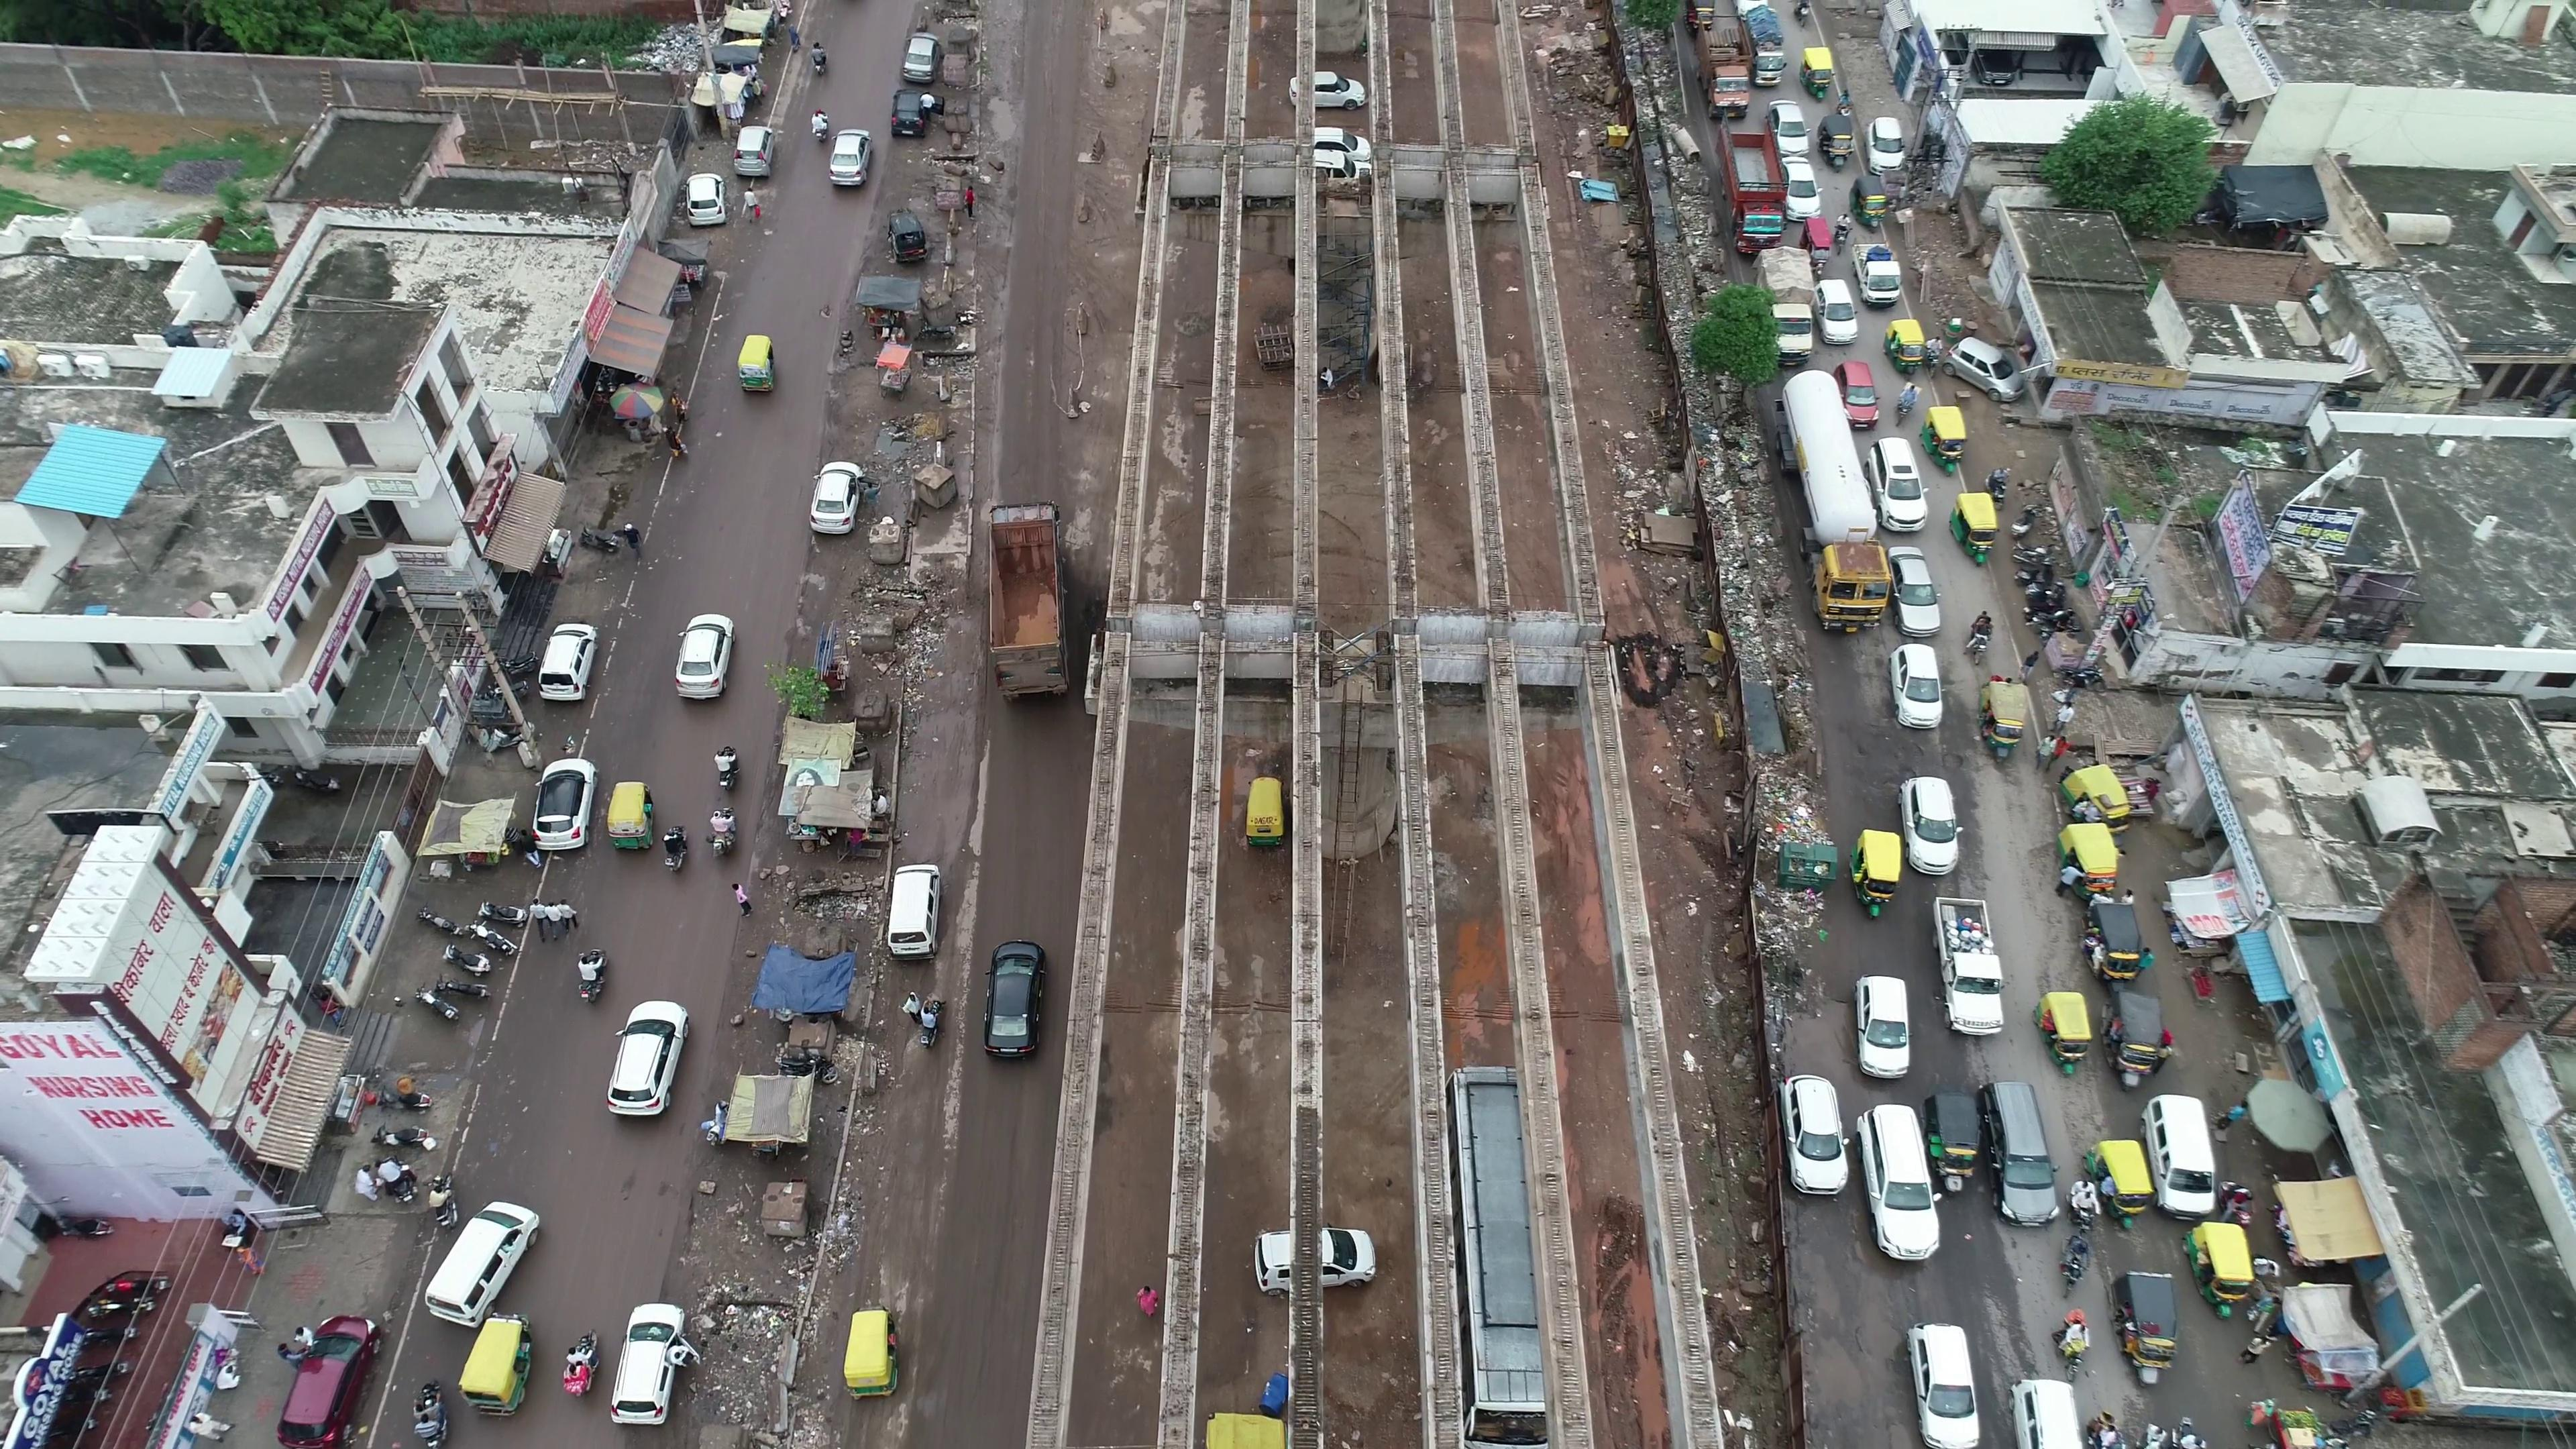Potholes: (1859, 732, 1980, 777)
Road_side_garbage: (1711, 464, 1790, 669)
